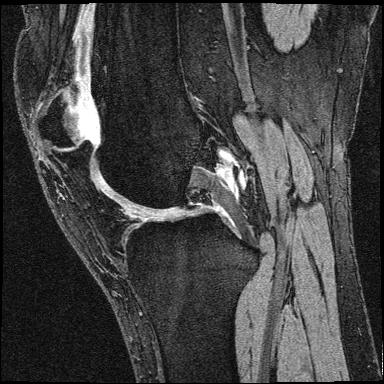SagKneeJointArea: (36, 91, 261, 283)
